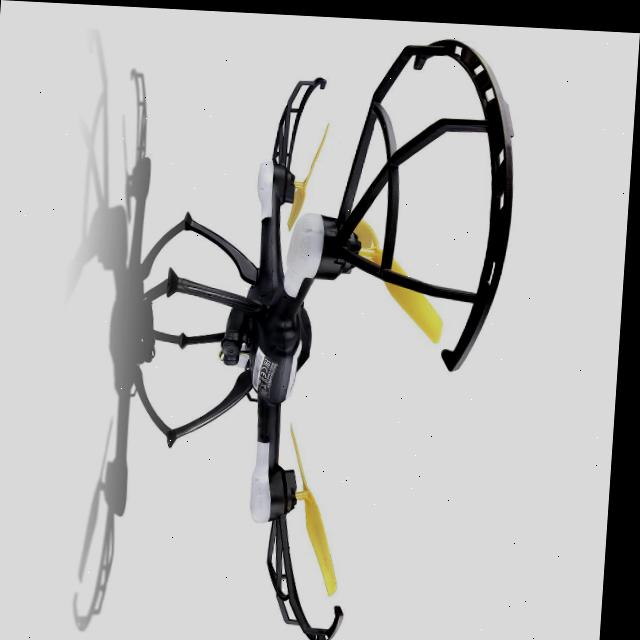drone: (0, 0, 636, 640)
